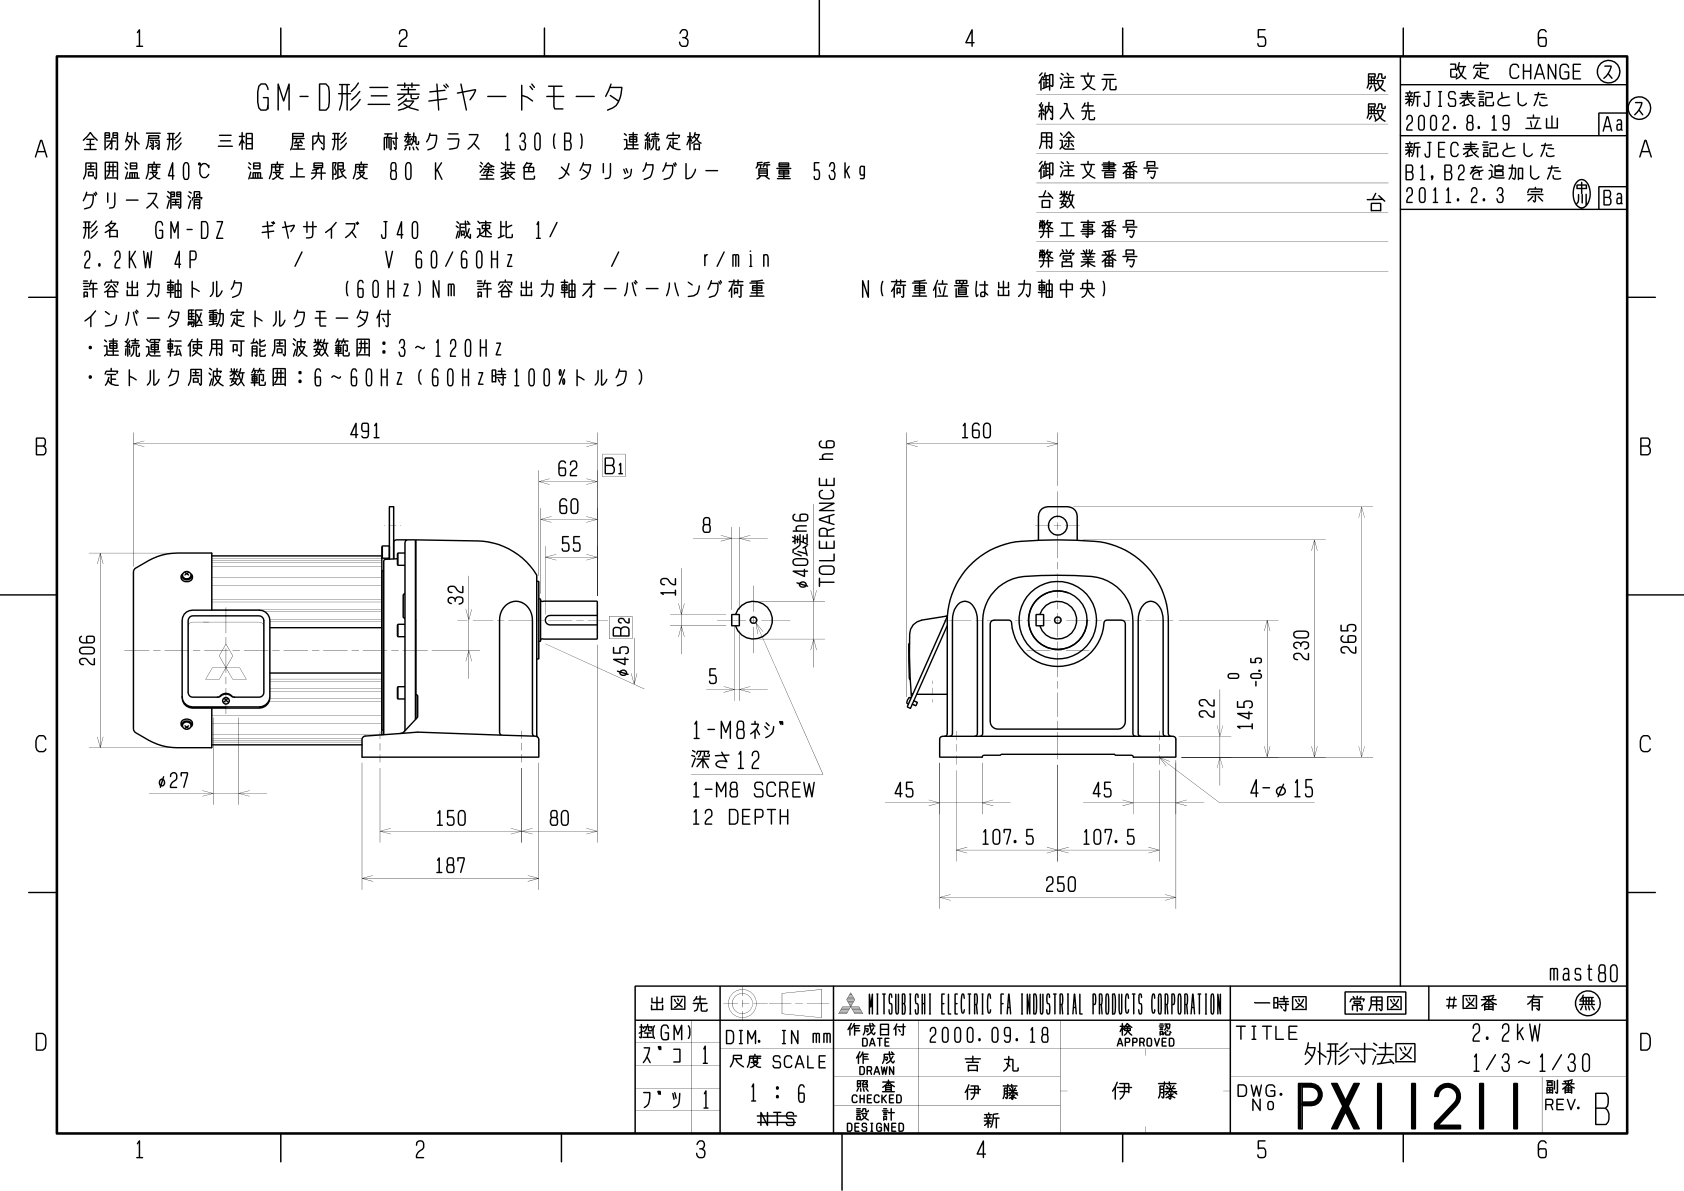GM_D_インバータ屋内_三相_脚: (10, 14, 1684, 1191)
